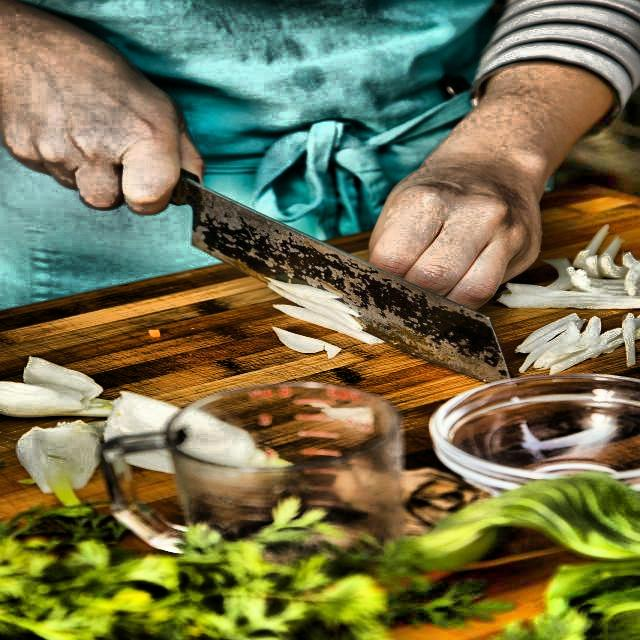knife: (150, 168, 518, 386)
